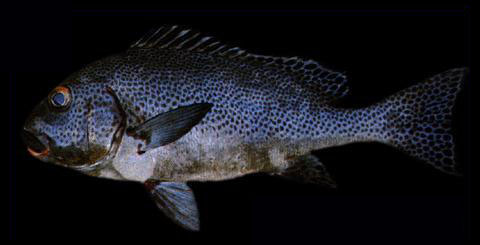fish: (23, 21, 468, 221)
